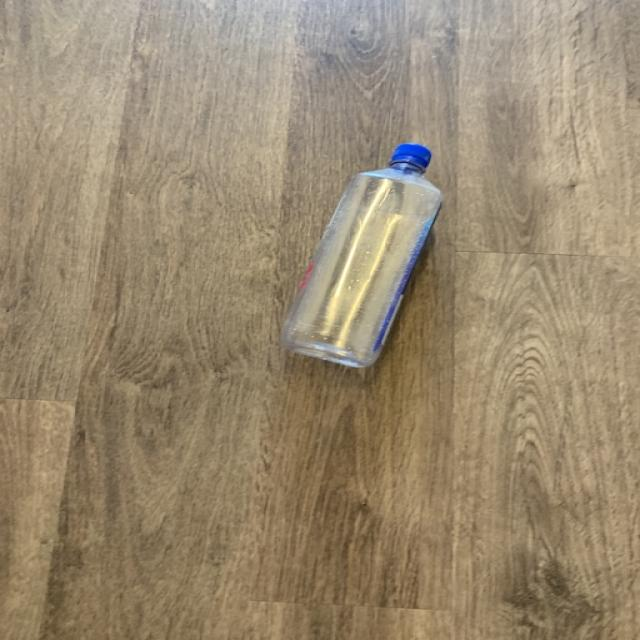Waste: (281, 142, 444, 368)
